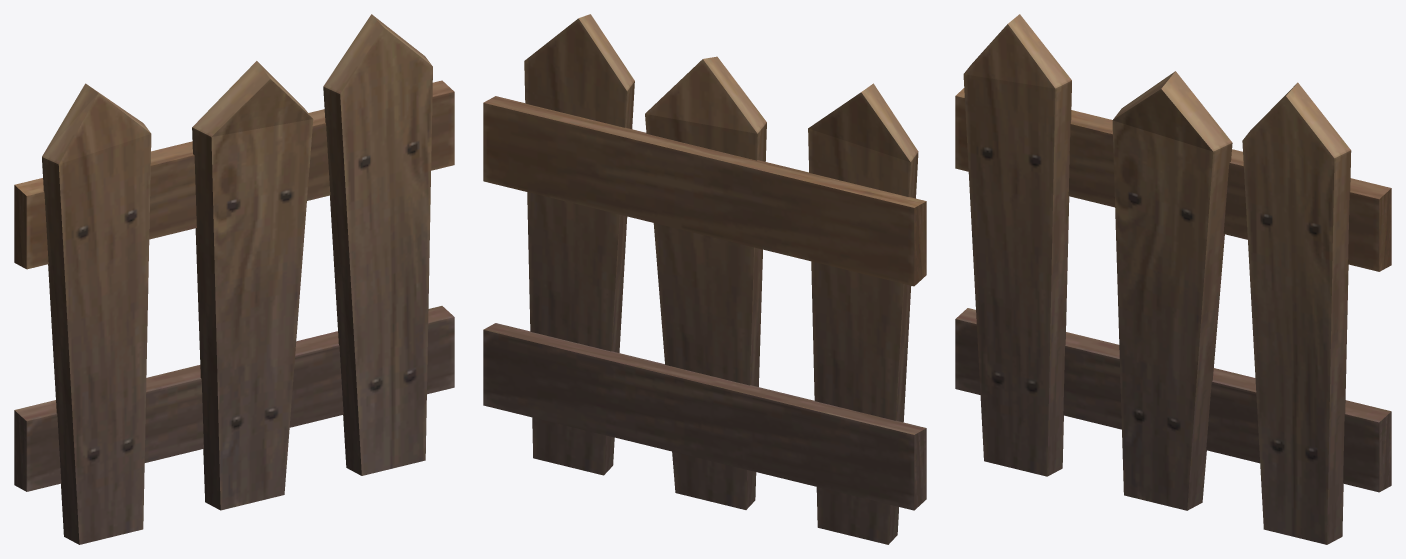
The model's file is D40_FENCE_T.obj.
3 views of the same model, side by side, from view 1: azimuth 30°, elevation 25°; view 2: azimuth 150°, elevation 25°; view 3: azimuth 330°, elevation 25° (orthographic).
Visible parts, largest first — view 1: D40_FENCE_T; view 2: D40_FENCE_T; view 3: D40_FENCE_T.
Part boxes in pixels (<box>): D40_FENCE_T: <box>14,14,454,544</box>; D40_FENCE_T: <box>483,14,926,544</box>; D40_FENCE_T: <box>955,14,1391,544</box>.
Size of the model in its own units: 1 by 0.9999 by 0.1226.
1 material, 1 textured.
